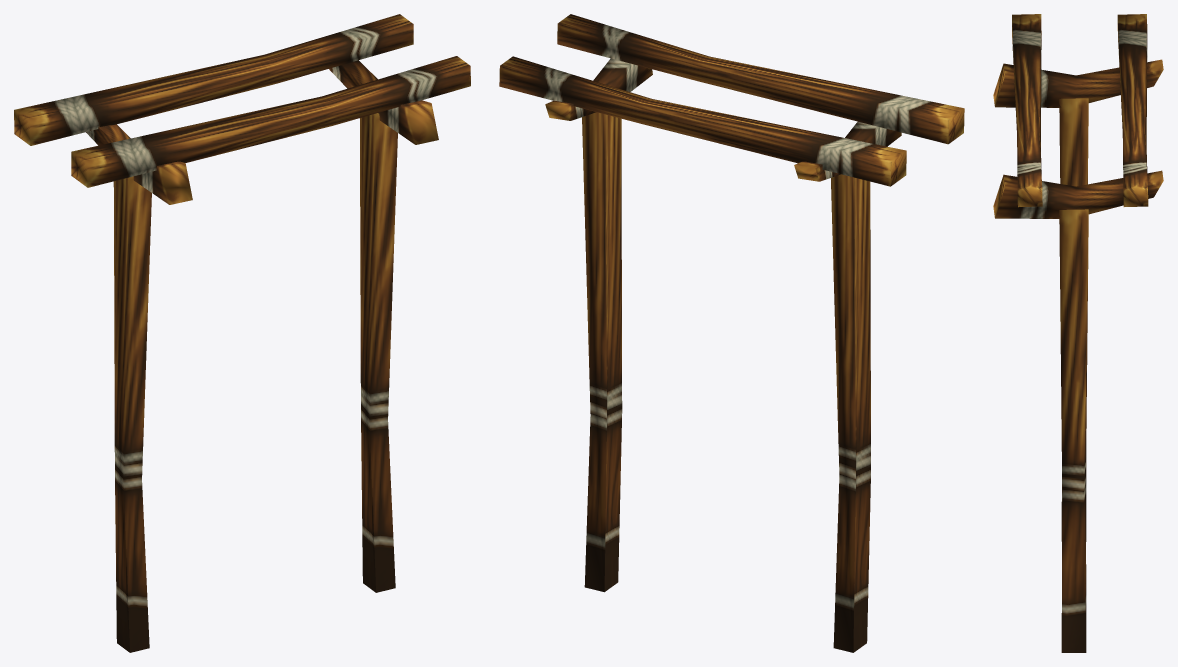
The model's file is support.fbx.
3 renders of one model, left to right at view 1: azimuth 30°, elevation 25°; view 2: azimuth 150°, elevation 25°; view 3: azimuth 270°, elevation 25°, orthographic. The views are drawn at different scales.
Visible parts, largest first — view 1: support; view 2: support; view 3: support.
Boxes of the visible parts, x1,y1,x2,y2 form: support: (14, 14, 470, 652); support: (499, 14, 964, 652); support: (993, 14, 1163, 652).
Bounding box in the file's own units: 177 × 230 × 72.72.
